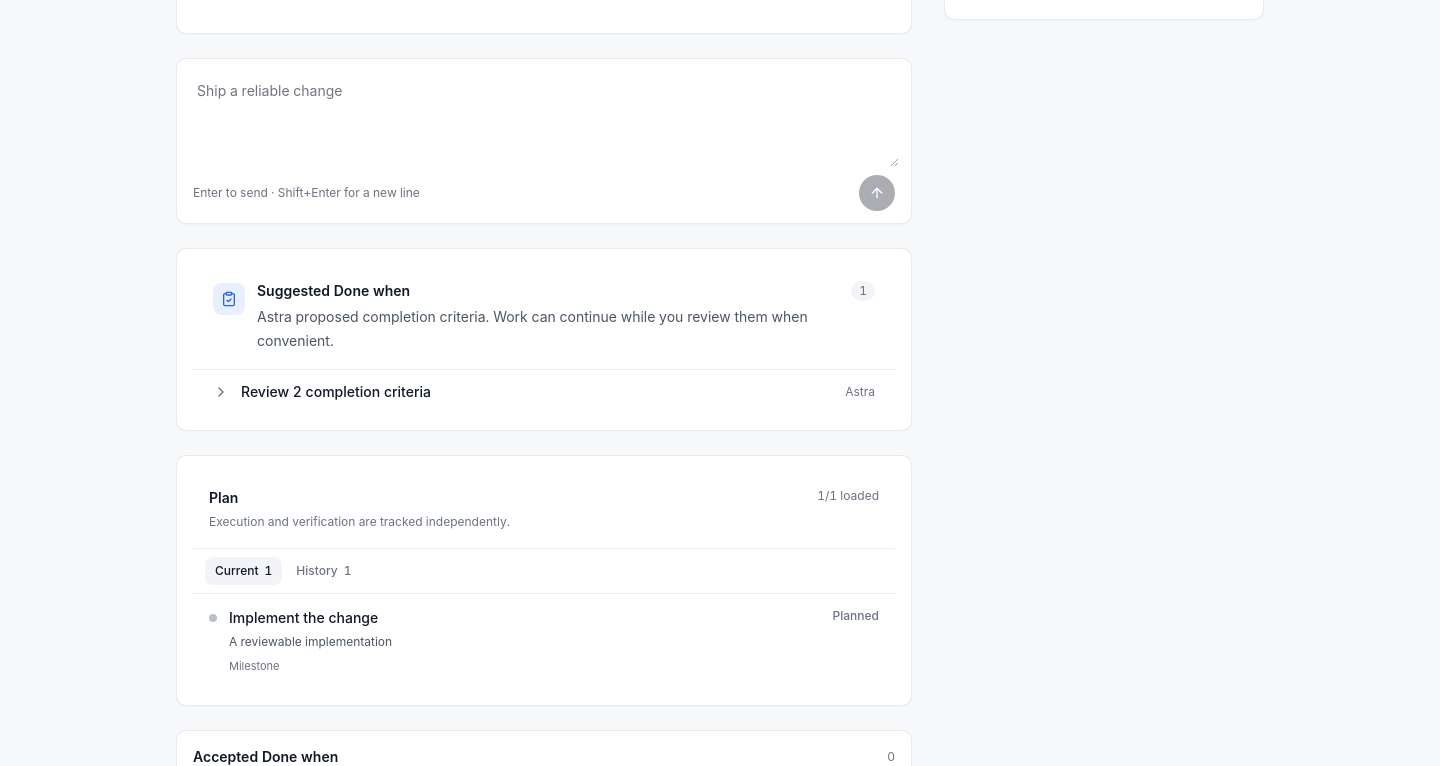
keeps proposal payload lazy until the user opens the suggestion
This screenshot has width=1440, height=766.
(page scrolled)
Expected: the text "Work can continue while you review" is shown, [257,308,808,349]
Click the button "Review 2 completion criteria Astra" at (267, 392), box [193,370,895,414]
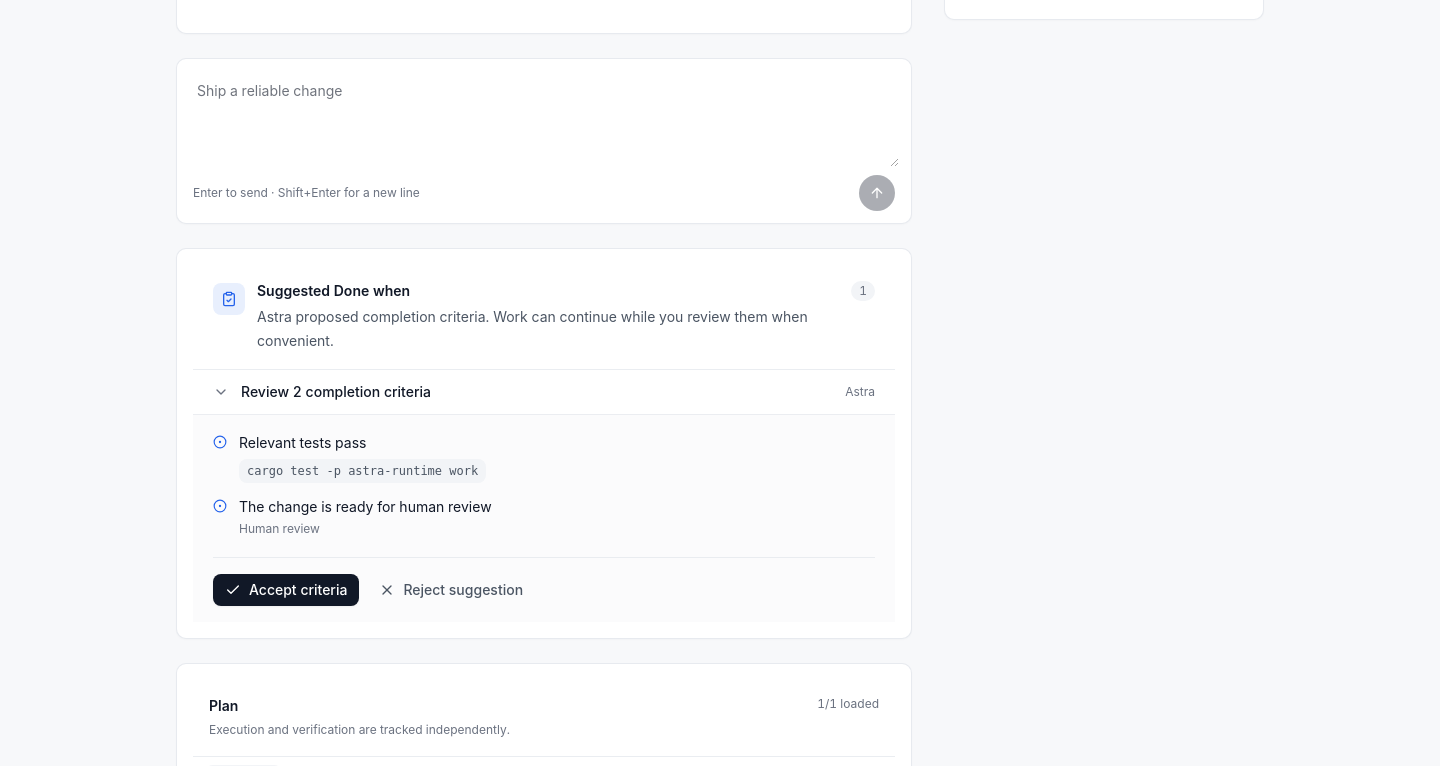
Now the text "Relevant tests pass" is shown, box [239,434,366,451]
Now the text "cargo test -p astra-runtime work" is shown, box [239,459,486,483]
